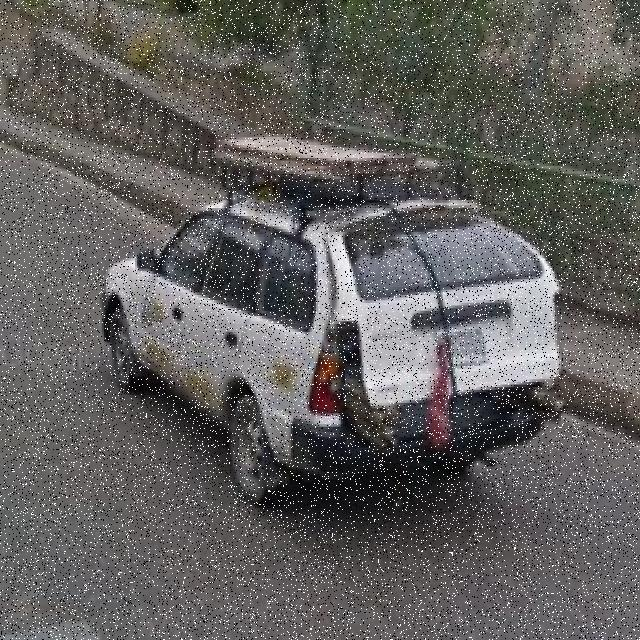cars: (104, 130, 569, 517)
